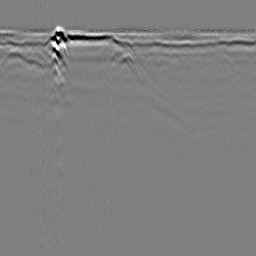cavity: (119, 50, 135, 65)
